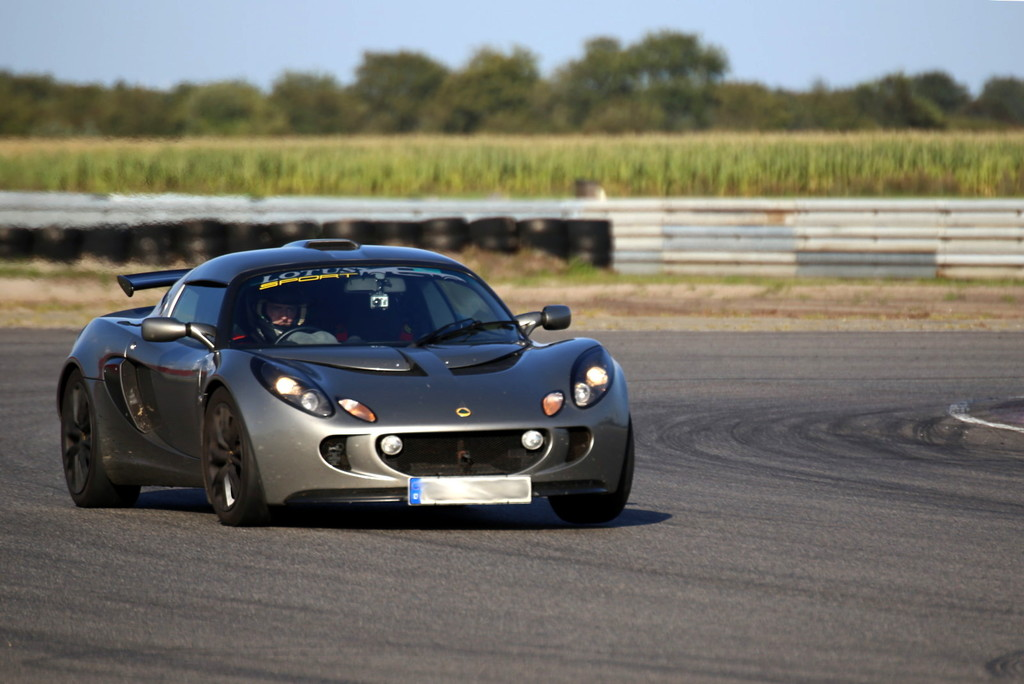Tree: (0, 24, 1024, 142)
